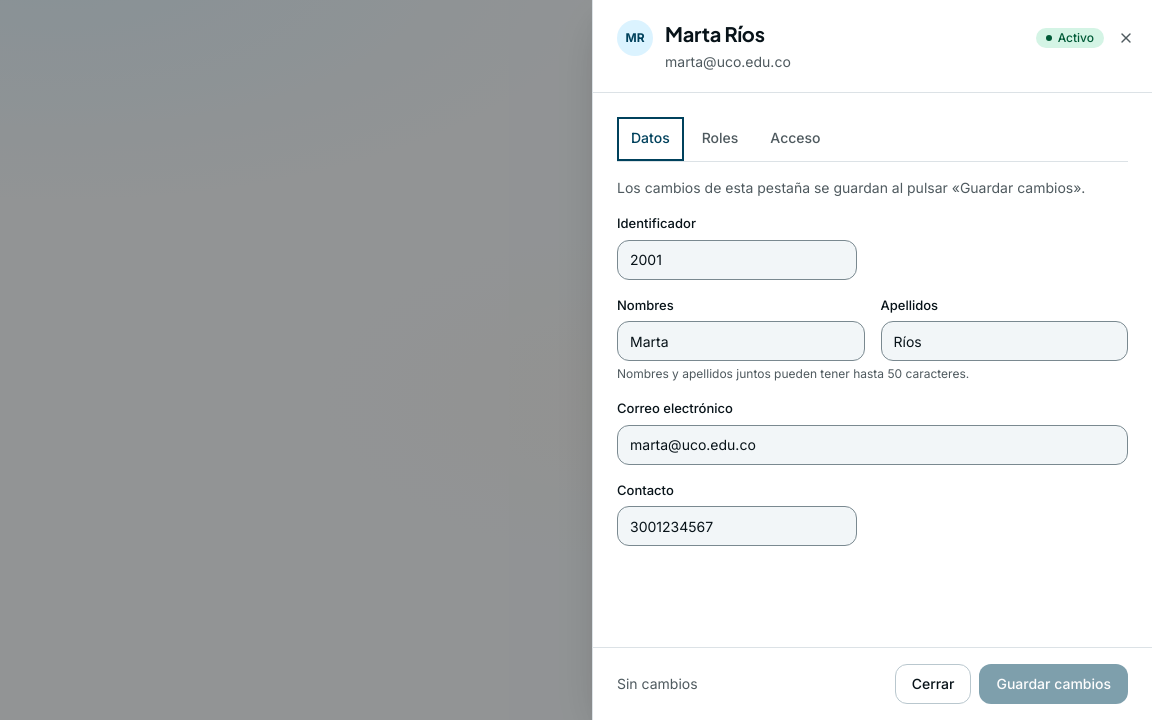
Test: EditarUsuarioPanel › un error del backend se pinta junto a su campo, avisa con toast.error y no cierra el panel
The width and height of the screenshot is (1152, 720).
Check: the field labelled "Nombres" is shown, box [617,321,864,361]
Step 1. Replace the text in the field labelled "Correo electrónico" with "marta.rios@uco.edu.co" → (872, 444), box [617,424,1128,464]
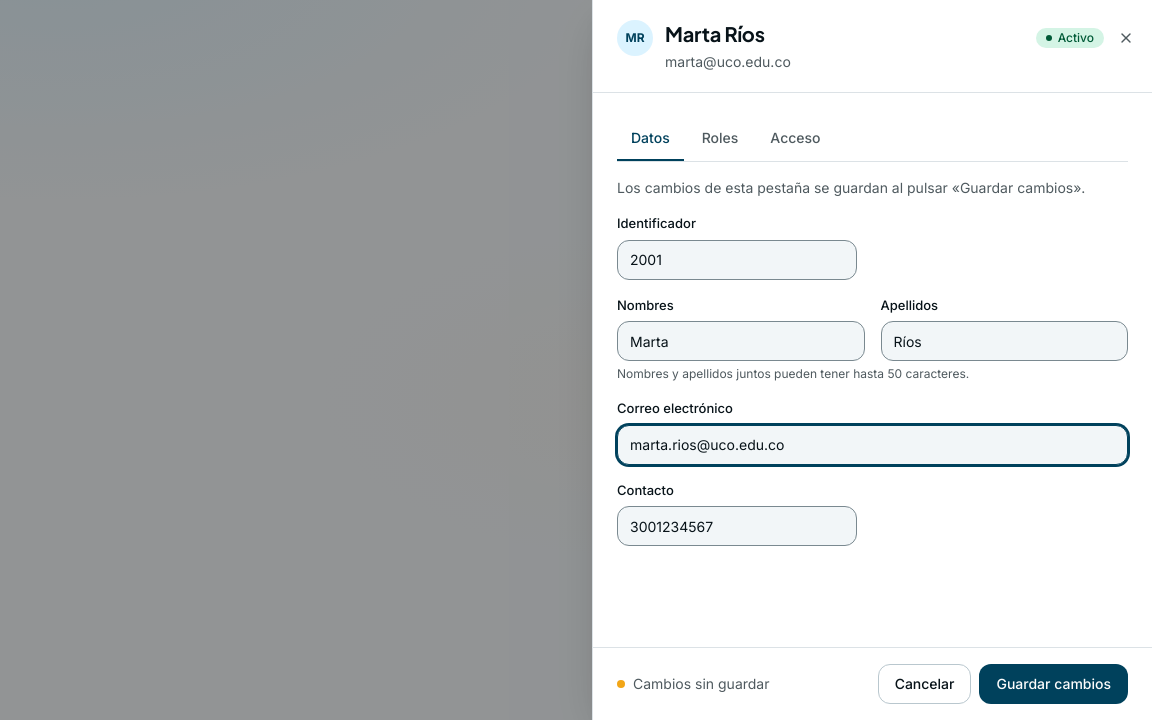
Step 2. Click the button "Guardar cambios" → (1054, 684), box [980,664,1128,704]
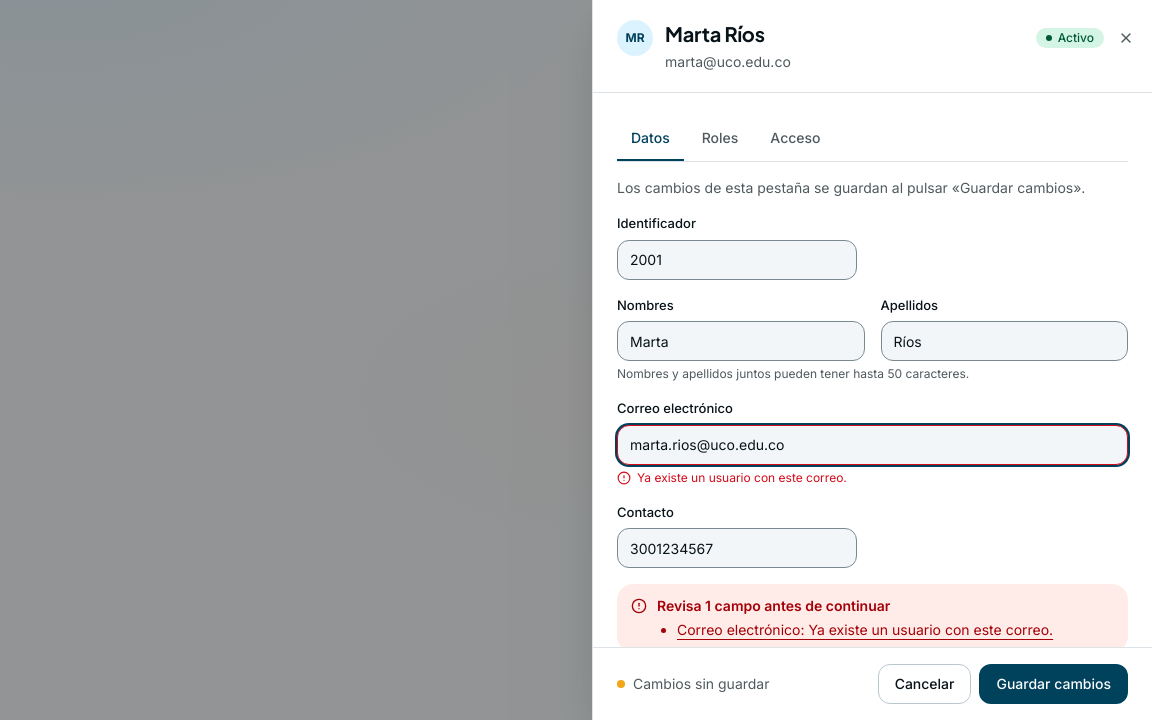
Check: the text "Revisa 1 campo antes de continuar" is shown, box [657,597,890,614]
